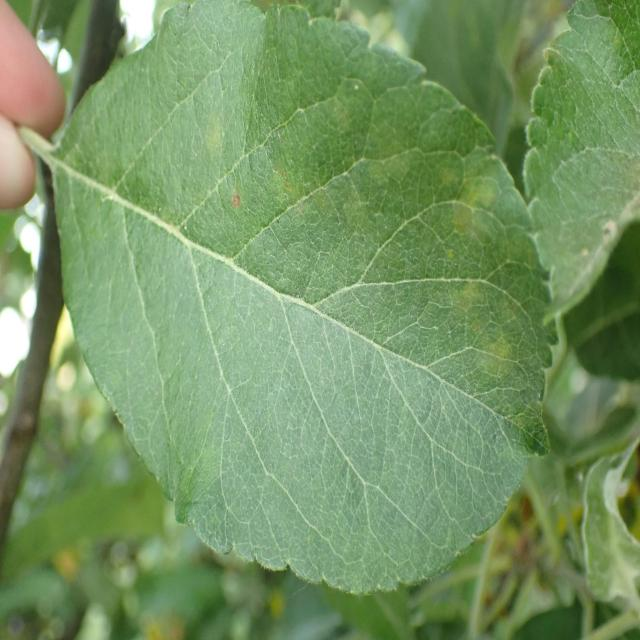scab: (93, 17, 552, 471)
